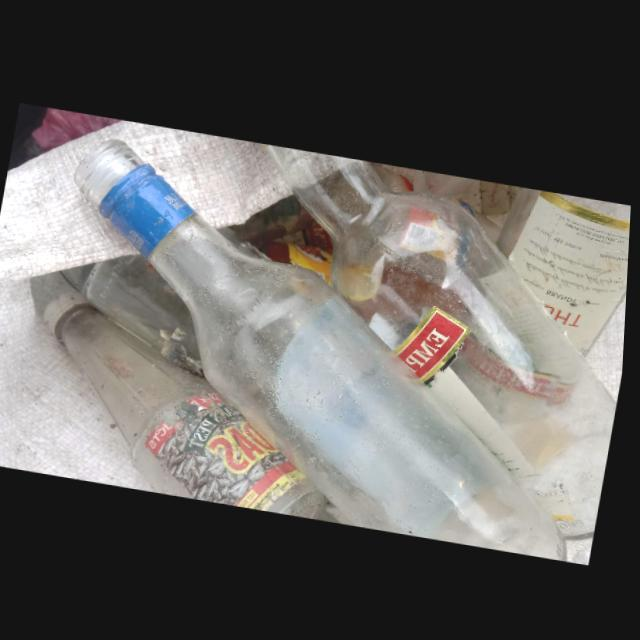glass: (76, 139, 573, 557), (268, 142, 620, 534), (45, 293, 332, 517)
